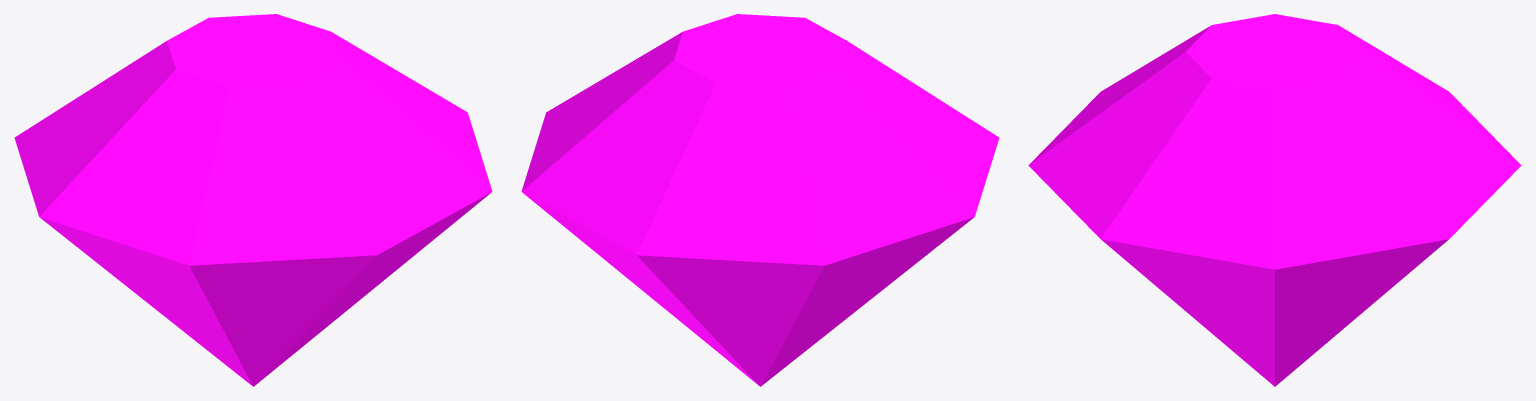
The model's file is Diamond.fbx.
3 views of the same model, side by side, from view 1: azimuth 30°, elevation 25°; view 2: azimuth 150°, elevation 25°; view 3: azimuth 270°, elevation 25° (orthographic).
Visible parts, largest first — view 1: Diamond; view 2: Diamond; view 3: Diamond.
Part boxes in pixels (left/top/right/bottom): Diamond: left=14, top=14, right=492, bottom=386; Diamond: left=521, top=14, right=999, bottom=386; Diamond: left=1028, top=14, right=1521, bottom=386.
Size of the model in its own units: 200 by 150 by 200.
